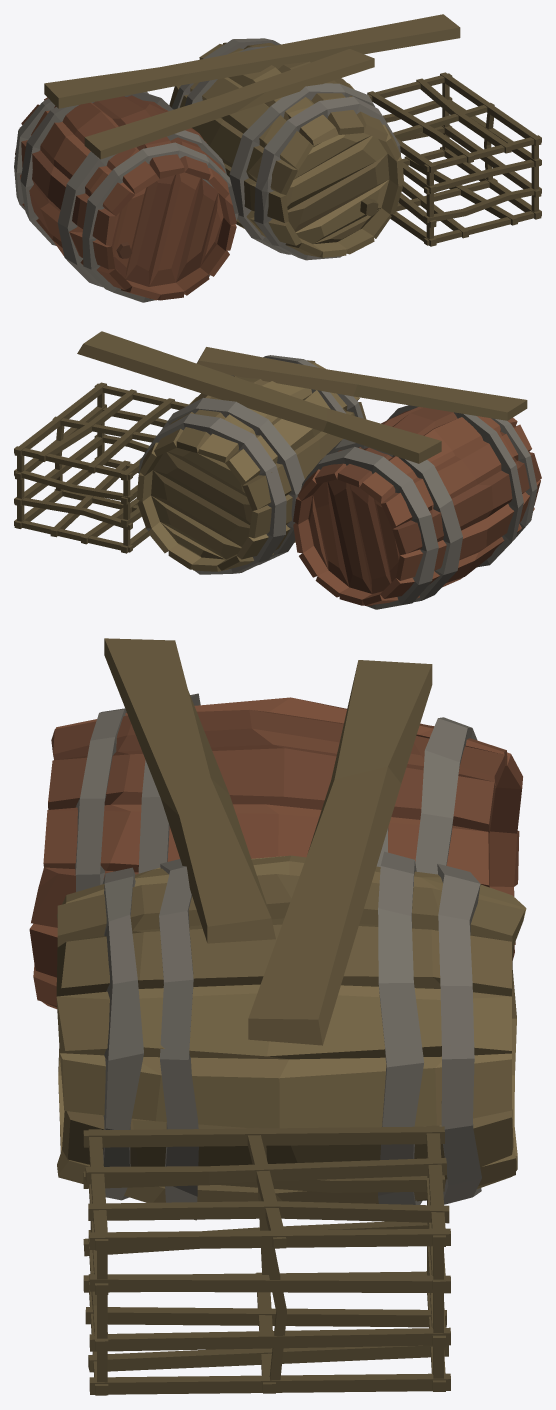
Rendered from Stack_2.fbx.
3 views of the same model, one above another, from view 1: azimuth 30°, elevation 25°; view 2: azimuth 150°, elevation 25°; view 3: azimuth 270°, elevation 25° (orthographic). The views are drawn at different scales.
Parts seen in each view (by area): view 1: Stack_2; view 2: Stack_2; view 3: Stack_2.
Part boxes in pixels (x1,y1,x2,y2): Stack_2: (14, 14, 541, 302); Stack_2: (14, 331, 541, 609); Stack_2: (29, 638, 526, 1395).
Size of the model in its own units: 208 by 76.17 by 100.
